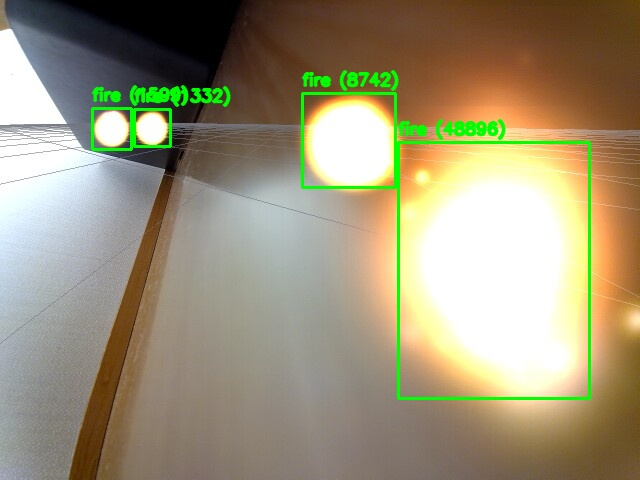fire: (398, 142, 589, 398), (302, 93, 395, 187), (92, 108, 131, 149), (134, 109, 170, 146)
